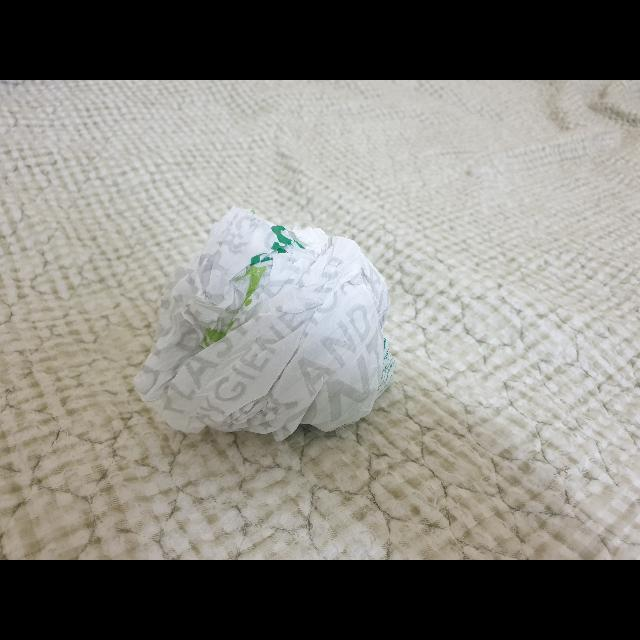plastic_bag: (123, 196, 413, 454)
